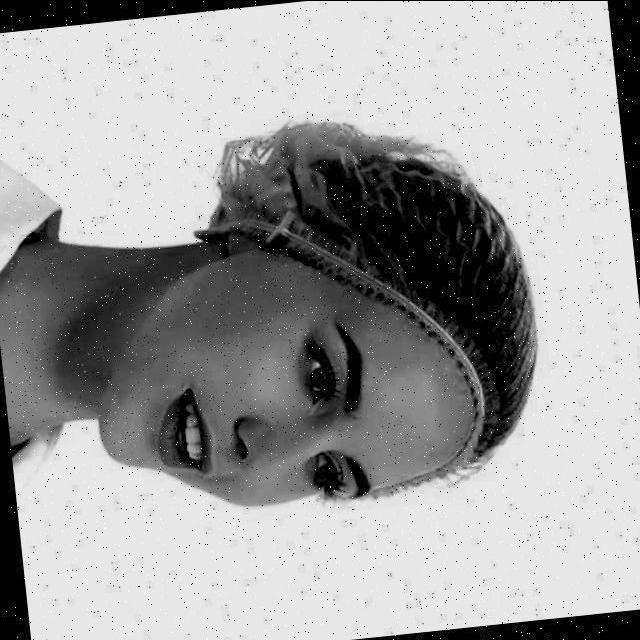gloves: (320, 140, 546, 498)
no_hairnet: (145, 352, 286, 484)
